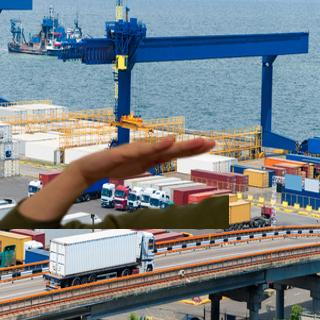WAIT: (78, 130, 222, 186)
